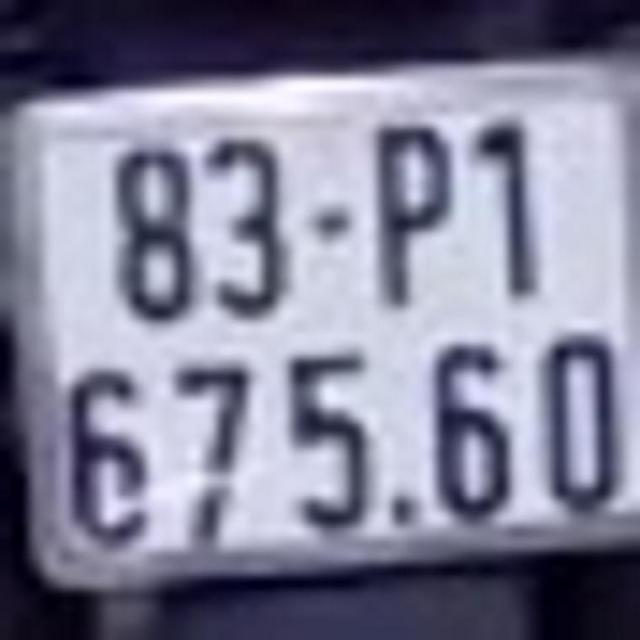0: (538, 331, 619, 518)
1: (479, 100, 536, 300)
3: (208, 123, 284, 327)
5: (288, 342, 372, 538)
6: (432, 334, 520, 524), (70, 361, 150, 545)
7: (174, 357, 247, 556)
8: (119, 146, 193, 313)
P: (368, 116, 459, 312)
